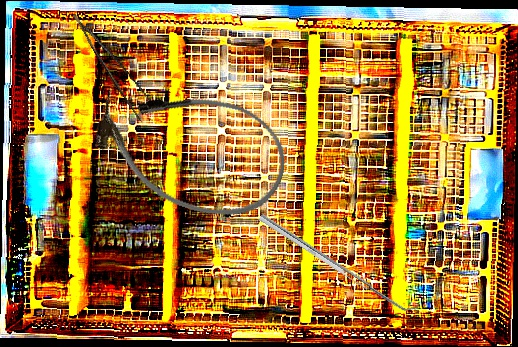Cannula: (80, 64, 300, 235)
Spatula Surgical: (258, 207, 420, 320)
Tissue Forceps: (72, 2, 161, 128)
